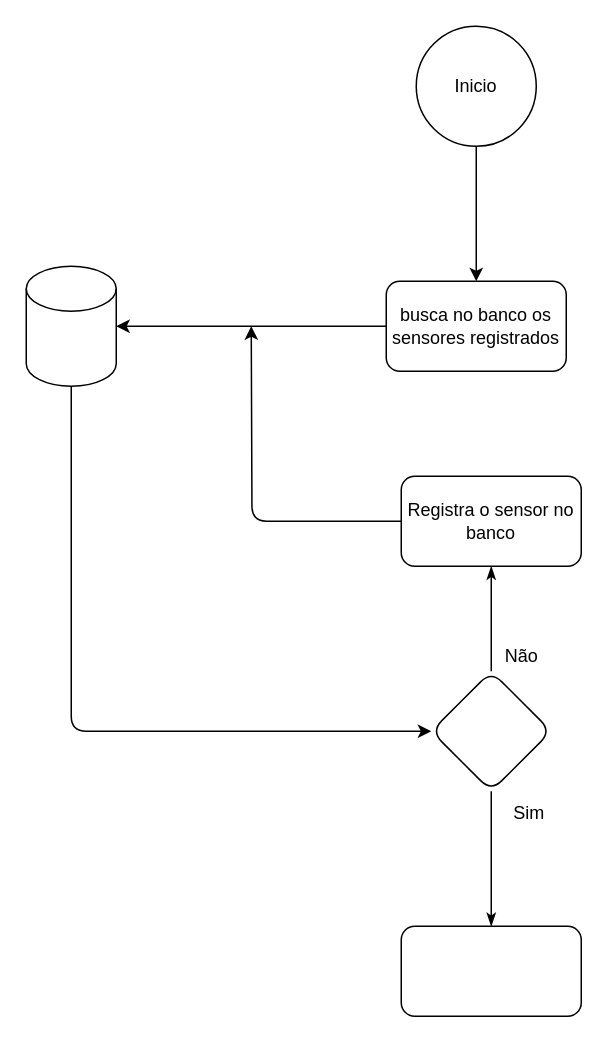
This 608x1043 diagram has some shape labels left out. The centre of each missing label's shape, as x and y in pixels:
Banco de Dados: point (70, 325)
sensor existe no banco?: point (490, 730)
